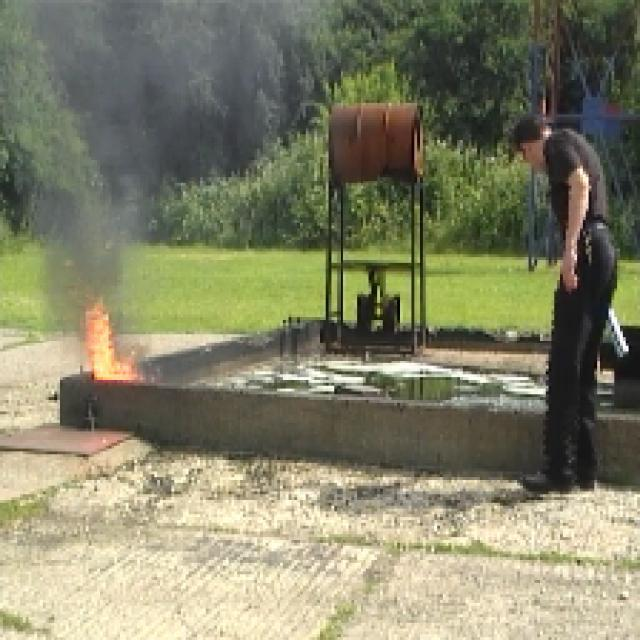Fire: (86, 306, 122, 386)
Smoke: (54, 218, 118, 290)
